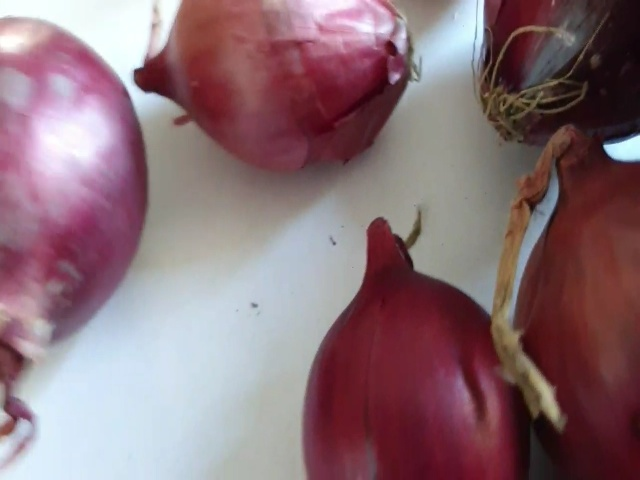red_onion: (3, 4, 155, 476), (292, 213, 516, 480), (139, 3, 424, 182), (506, 138, 640, 480), (468, 2, 640, 153)
